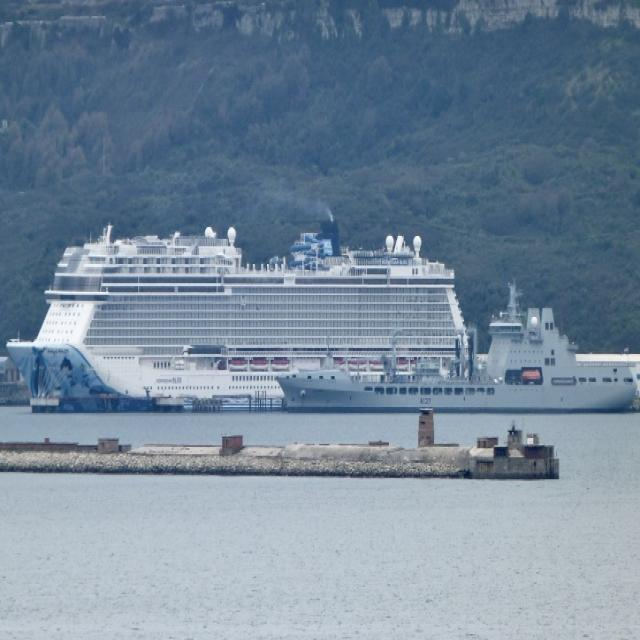cruises: (2, 155, 490, 407)
